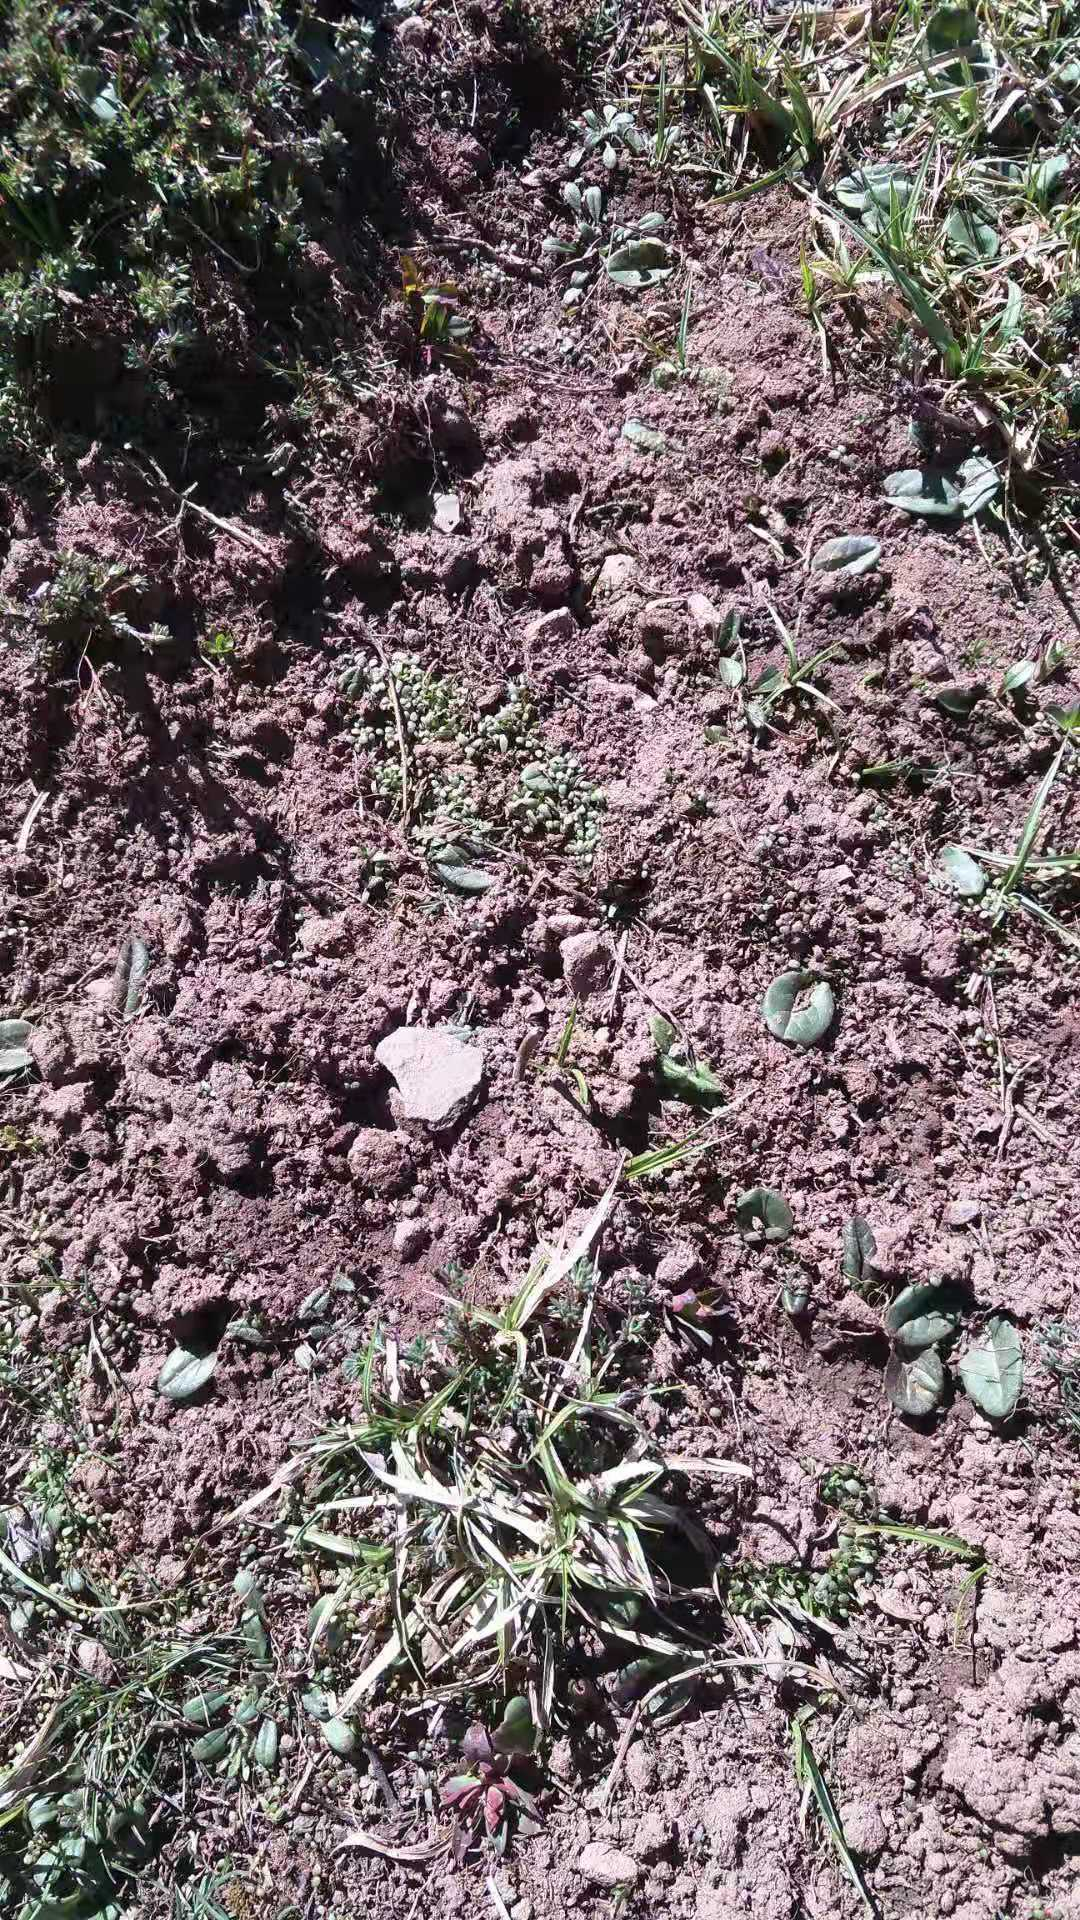Chongcao: (512, 1026, 545, 1083)
